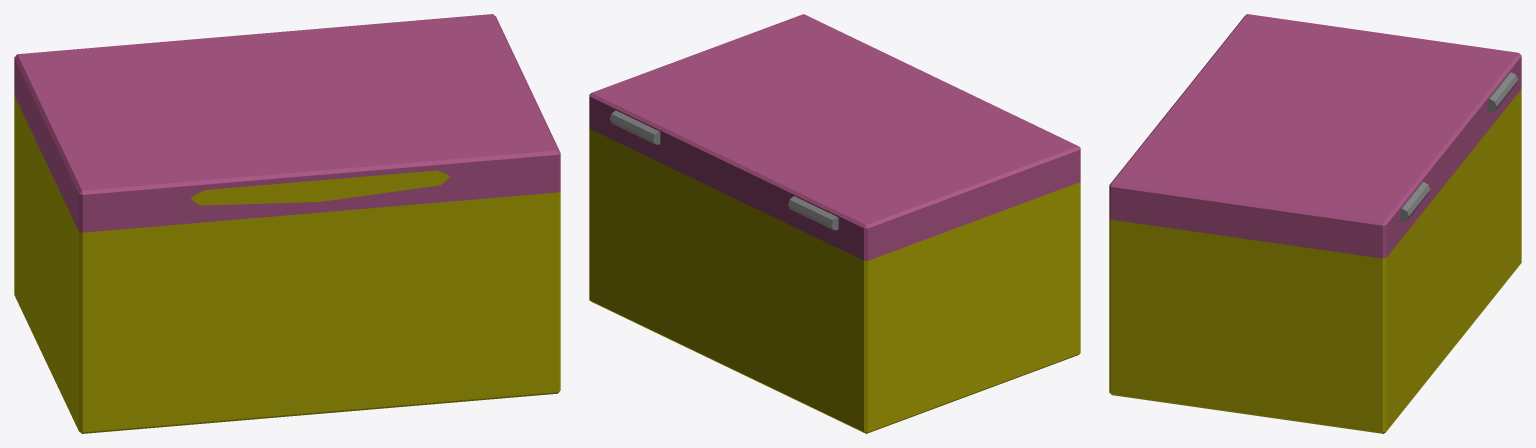
File: ToyBox_01.fbx
3 renders of one model, left to right at view 1: azimuth 30°, elevation 25°; view 2: azimuth 150°, elevation 25°; view 3: azimuth 270°, elevation 25°, orthographic. The views are drawn at different scales.
Parts seen in each view (by area): view 1: ToyBox_01; view 2: ToyBox_01; view 3: ToyBox_01.
Part boxes in pixels (x1,y1,x2,y2): ToyBox_01: [14, 14, 560, 433]; ToyBox_01: [589, 14, 1080, 433]; ToyBox_01: [1109, 14, 1521, 433].
Size of the model in its own units: 13.25 by 6.23 by 10.98.
